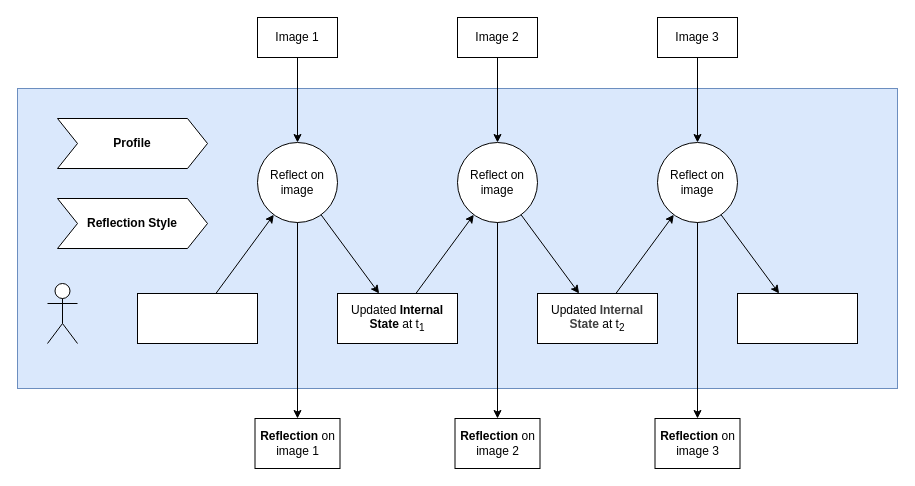
The diagram is 915 pixels wide and 486 high, and some of its shapes have lost their labels. The centre of each missing label's shape, as x and y in pixels:
Initial Internal State at t 0: the point at 197,318
Simulated viewer: the point at 62,313
Updated Internal State at t 3: the point at 797,318
